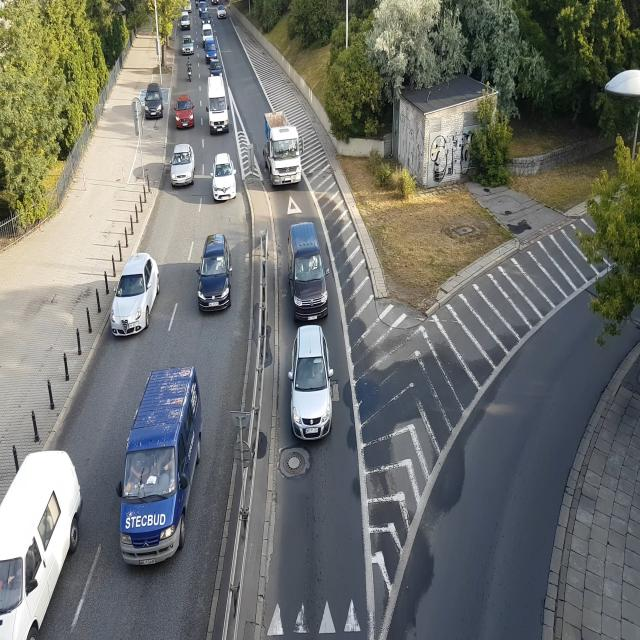car: (121, 352, 208, 582), (0, 444, 83, 640), (288, 324, 336, 447), (110, 241, 160, 352), (286, 221, 338, 325), (198, 230, 234, 316), (170, 136, 202, 198), (206, 149, 236, 204), (207, 79, 231, 138), (140, 83, 167, 125), (172, 94, 198, 130), (179, 33, 195, 55), (204, 41, 220, 62), (210, 58, 223, 80), (181, 11, 191, 30), (202, 24, 213, 40), (217, 5, 226, 18), (183, 0, 192, 13), (201, 13, 211, 23), (198, 3, 208, 12), (212, 0, 220, 6)
motorcycle: (183, 58, 196, 82), (196, 0, 198, 11)
truck: (256, 102, 310, 190)
